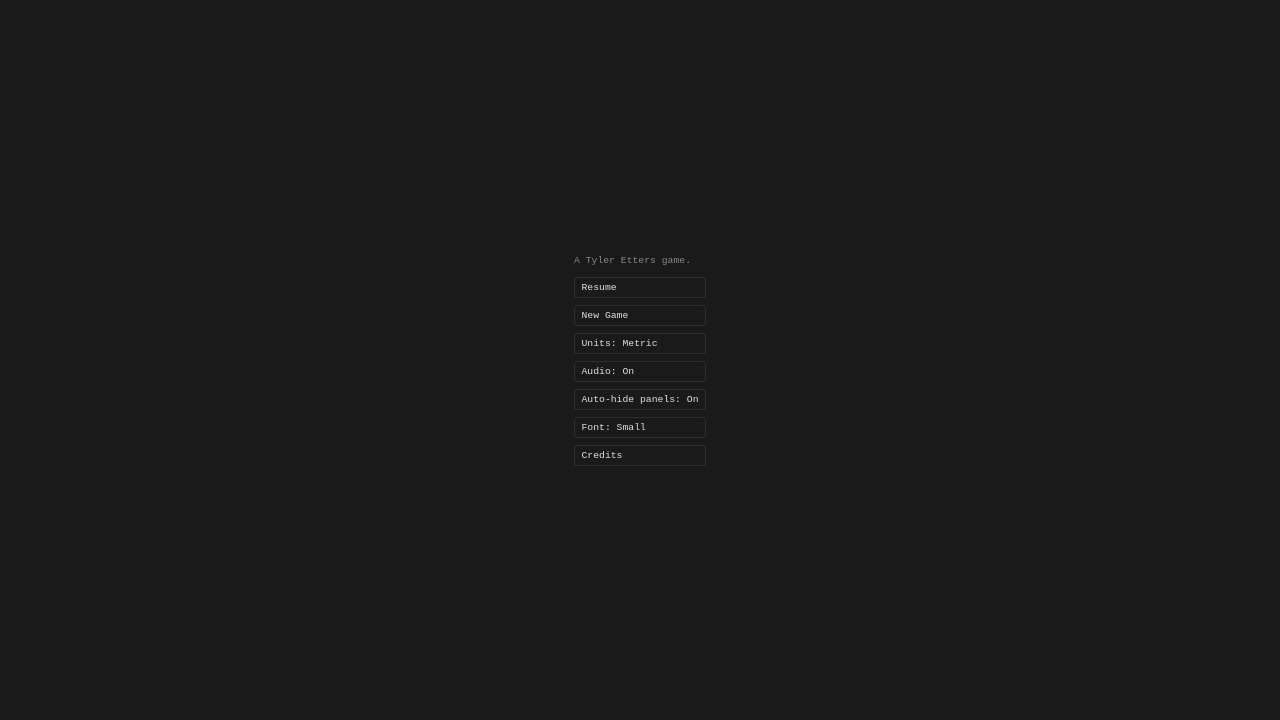
Test case: Menu › closes the credits modal via the close button
The width and height of the screenshot is (1280, 720).
Click the button "Credits" at (640, 455), box left=574, top=445, right=706, bottom=466
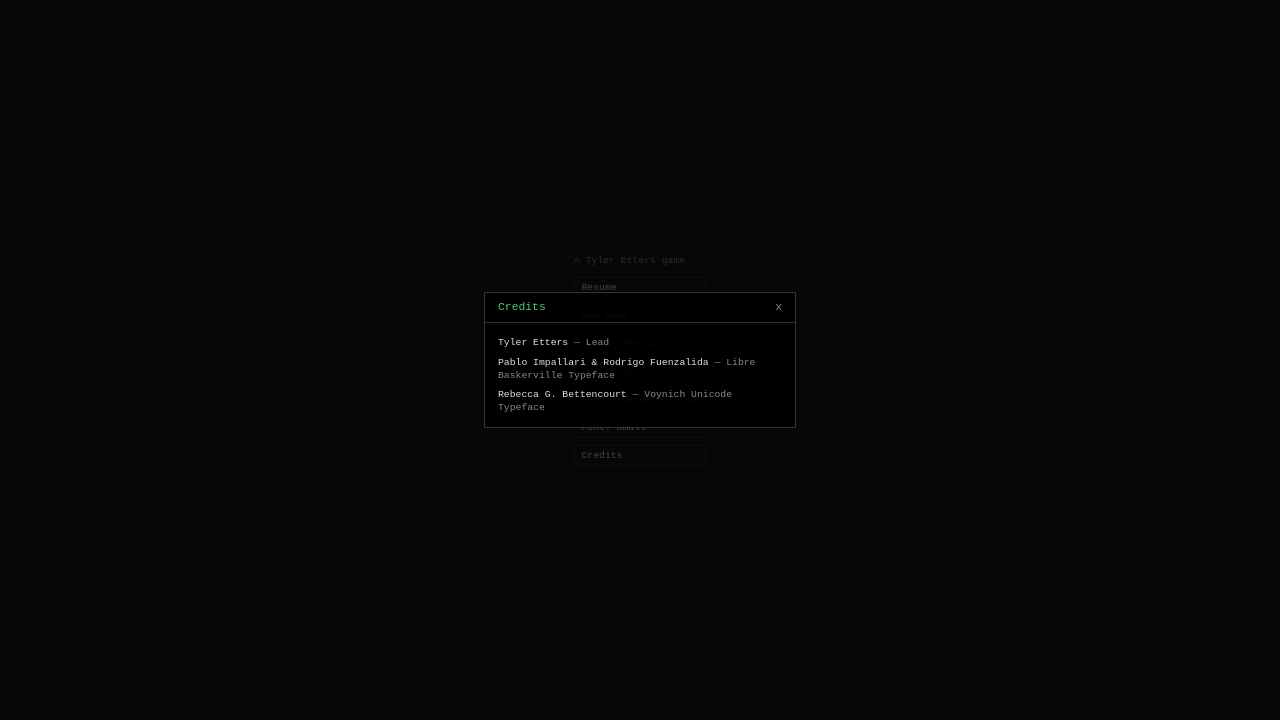
Now the dialog with test id "credits-modal" is shown, box left=484, top=292, right=796, bottom=428
Click the button named "close credits" at (779, 308), box left=775, top=299, right=782, bottom=316
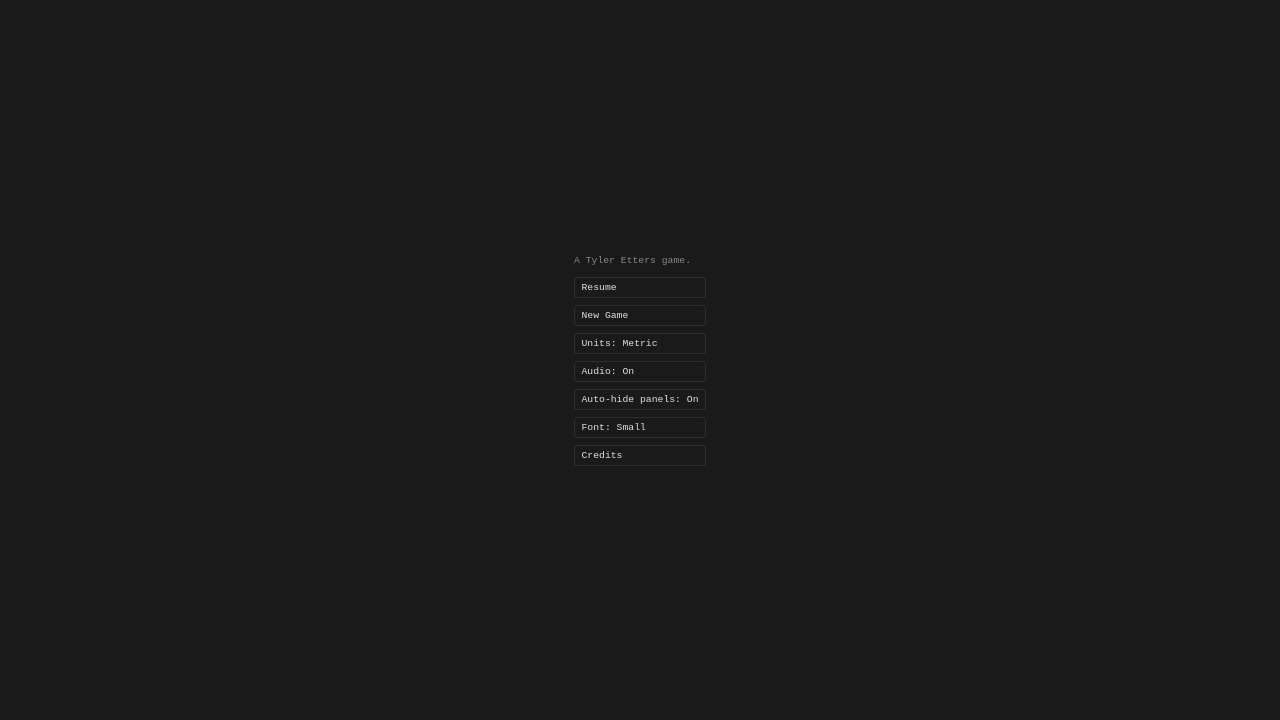
Now the dialog with test id "credits-modal" is gone
